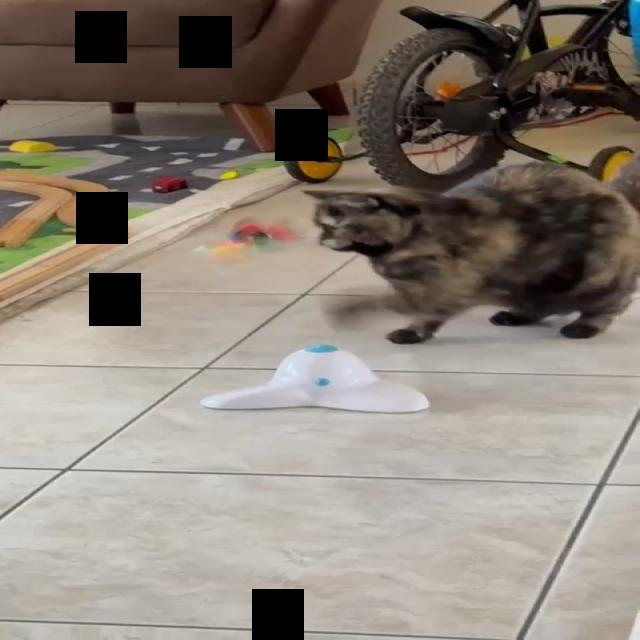authorized: (300, 158, 639, 344)
